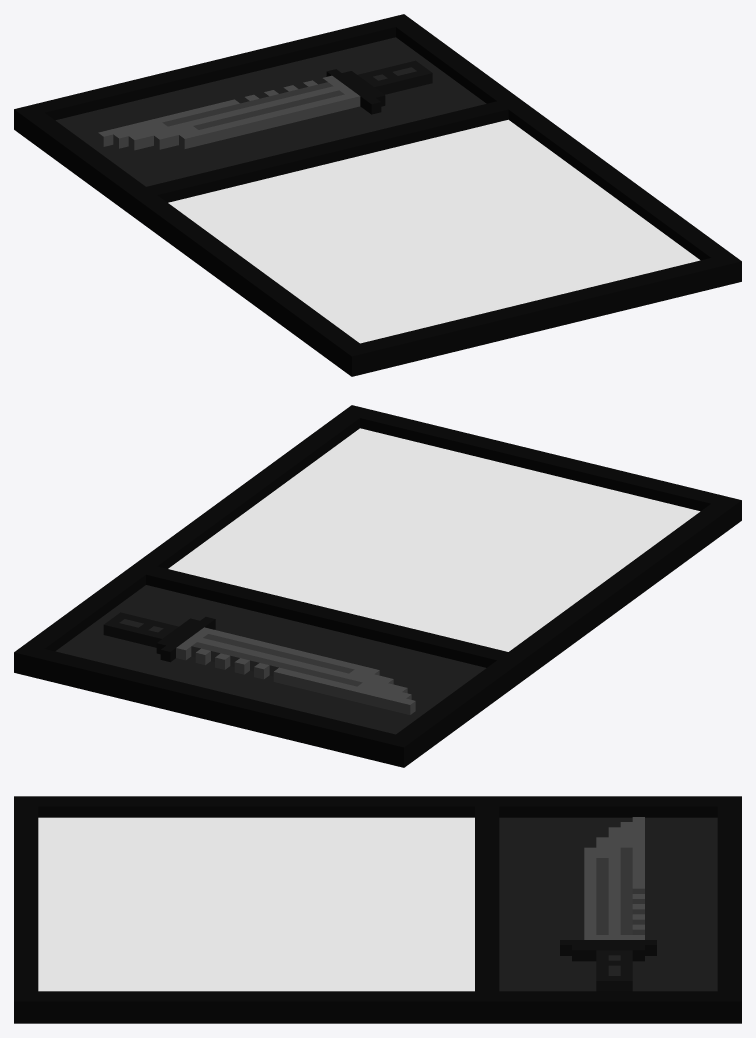
The model's file is tile5.obj.
The picture shows the model from 3 angles, top to bottom: view 1: azimuth 30°, elevation 25°; view 2: azimuth 150°, elevation 25°; view 3: azimuth 270°, elevation 25°; orthographic projection. The views are drawn at different scales.
Bounding box in the file's own units: 4 × 0.2 × 6.
Materials: 1 (1 with a texture image).
